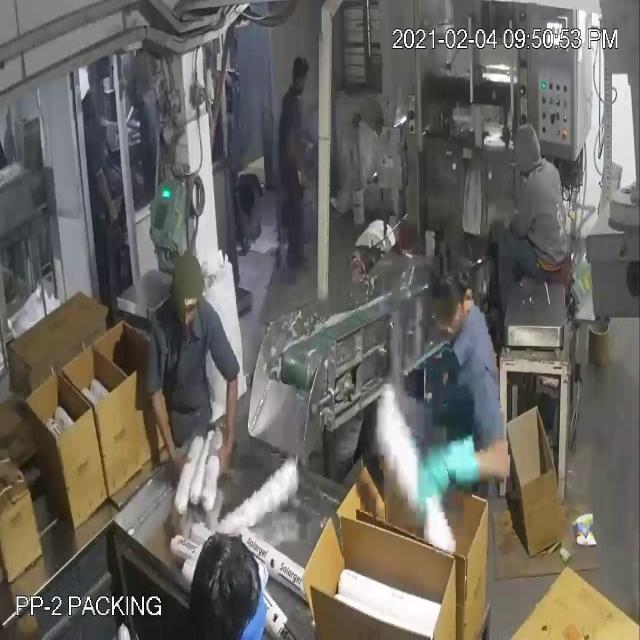No_Gloves: (24, 66, 445, 466)
